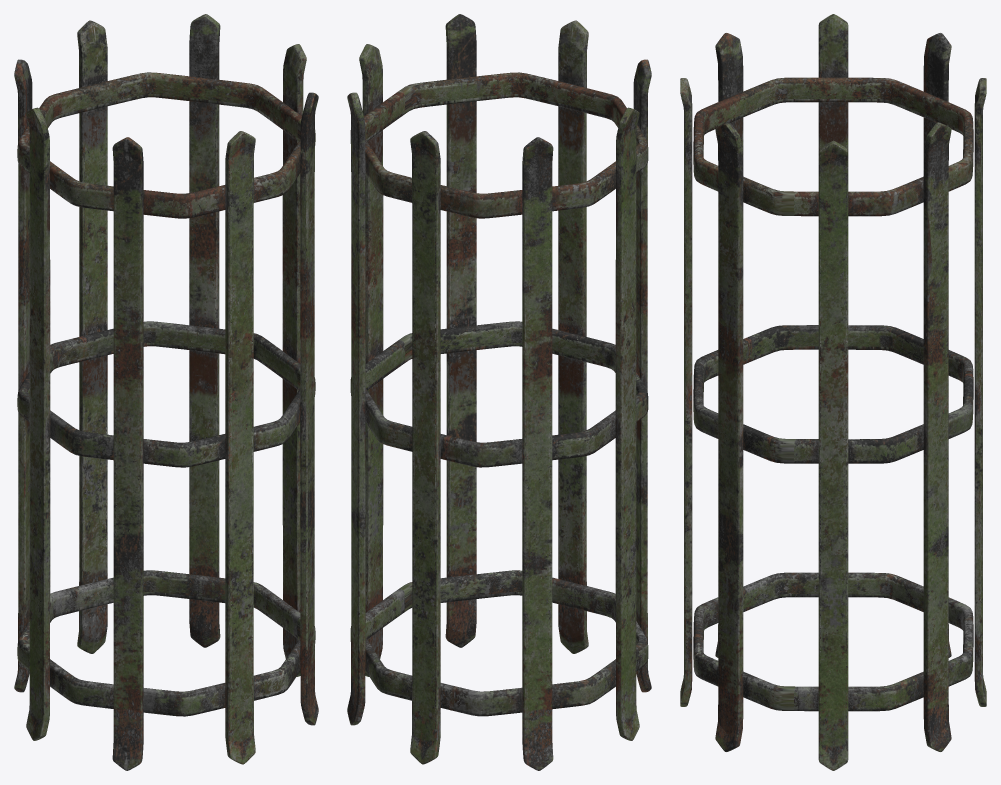
The picture shows the model from 3 angles, left to right: view 1: azimuth 30°, elevation 25°; view 2: azimuth 150°, elevation 25°; view 3: azimuth 270°, elevation 25°; orthographic projection.
Visible parts, largest first — view 1: Cylinder; view 2: Cylinder; view 3: Cylinder.
Boxes of the visible parts, <box> form: Cylinder: <box>14,14,318,770</box>; Cylinder: <box>347,14,651,770</box>; Cylinder: <box>680,14,986,770</box>.
Bounding box in the file's own units: 121 × 274 × 121.
1 material, 1 textured.
